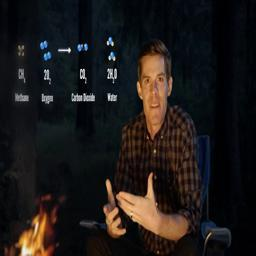fire: (14, 192, 57, 256)
